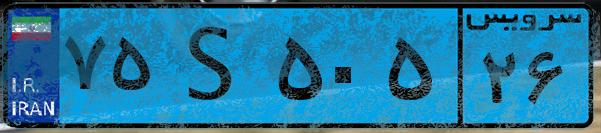0: (330, 28, 385, 110)
2: (475, 38, 525, 113)
5: (270, 28, 330, 110), (385, 28, 445, 110), (110, 28, 158, 98)
6: (525, 38, 570, 115)
7: (57, 26, 110, 100)
S: (158, 12, 270, 120)
